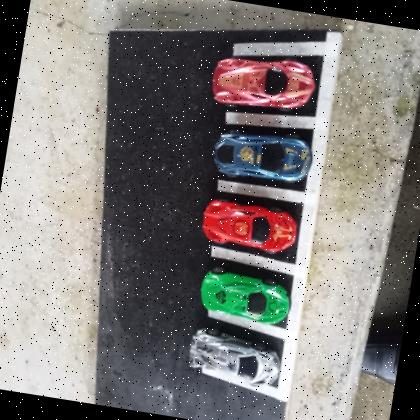Car: (209, 48, 319, 118), (210, 124, 316, 188), (198, 195, 302, 257), (186, 325, 285, 390), (196, 265, 294, 328)
